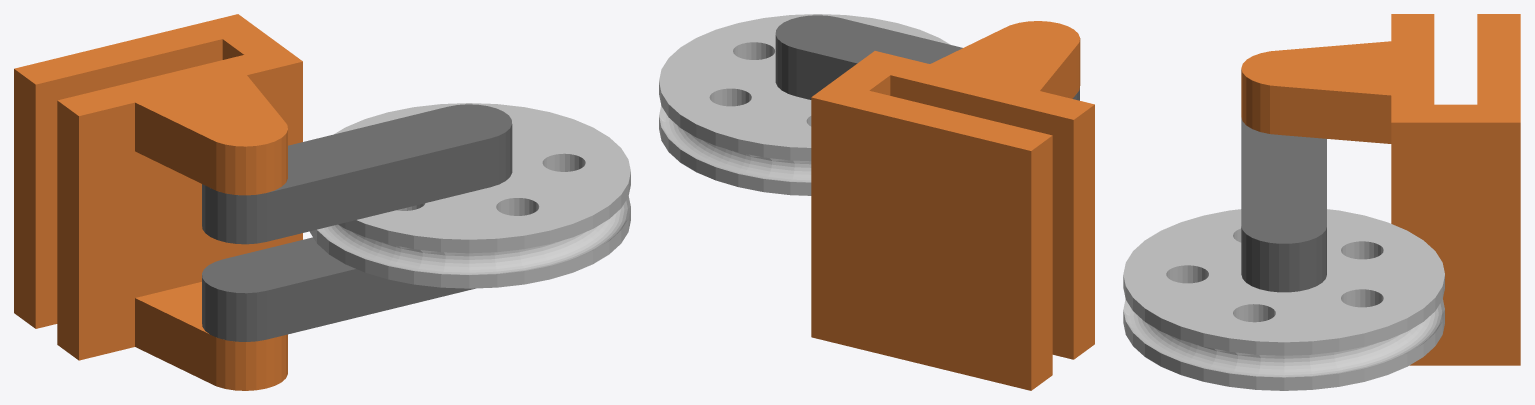
File: pulley.obj
3 renders of one model, left to right at view 1: azimuth 30°, elevation 25°; view 2: azimuth 150°, elevation 25°; view 3: azimuth 270°, elevation 25°, orthographic.
Parts seen in each view (by area): view 1: b_pulley_rail_support_001_, b_pulley_wheel_001_, b_pulley_bars_001_001, b_pulley_bars_001_; view 2: b_pulley_rail_support_001_, b_pulley_wheel_001_, b_pulley_bars_001_001; view 3: b_pulley_rail_support_001_, b_pulley_wheel_001_, b_pulley_bars_001_001.
Part boxes in pixels (x1,y1,x2,y2): b_pulley_rail_support_001_: (14,14,302,390); b_pulley_wheel_001_: (309,103,630,288); b_pulley_bars_001_001: (202,104,512,244); b_pulley_bars_001_: (202,237,475,341); b_pulley_rail_support_001_: (811,21,1094,390); b_pulley_wheel_001_: (659,14,950,195); b_pulley_bars_001_001: (775,15,1079,100); b_pulley_rail_support_001_: (1241,14,1520,365); b_pulley_wheel_001_: (1123,209,1444,390); b_pulley_bars_001_001: (1241,117,1326,292).
Size of the model in its own units: 51 by 25 by 37.04.
